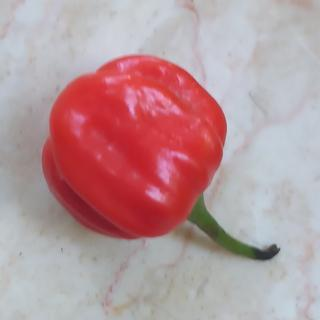Grade-B: (38, 46, 230, 243)
